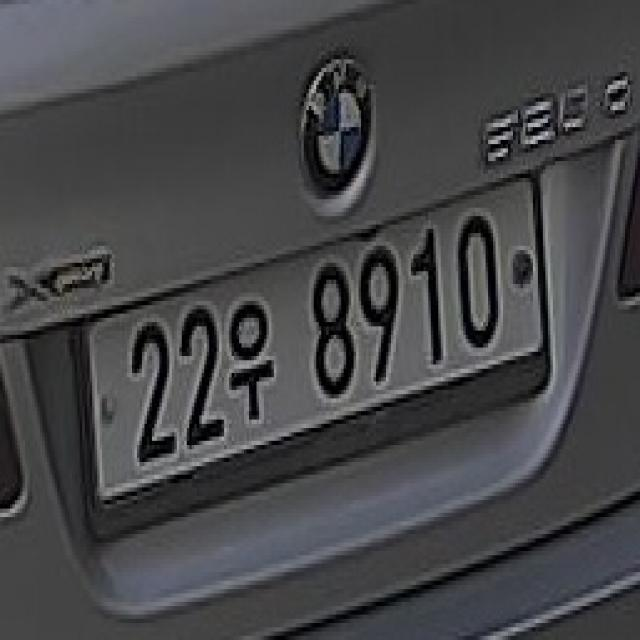0: (454, 205, 511, 359)
1: (405, 214, 457, 375)
2: (122, 315, 183, 472), (177, 292, 235, 452)
8: (305, 251, 363, 411)
9: (357, 241, 411, 394)
license_plate: (92, 176, 541, 496)
u: (227, 286, 289, 434)
